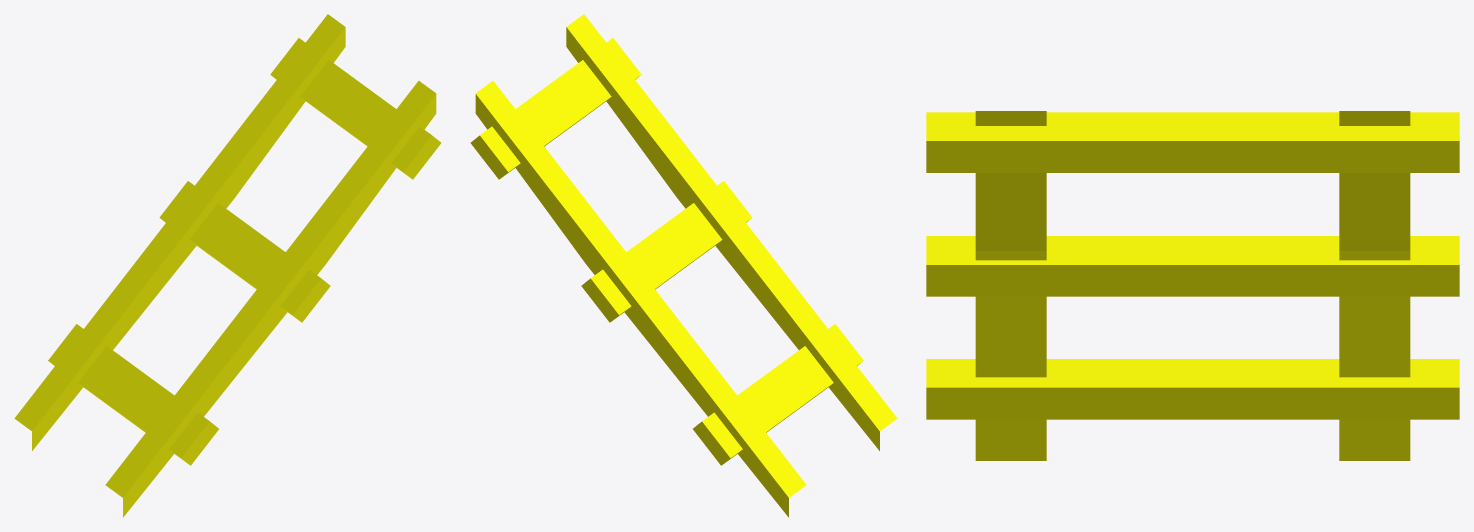
Rendered from Rail_Incline.glb.
The picture shows the model from 3 angles, left to right: view 1: azimuth 30°, elevation 25°; view 2: azimuth 150°, elevation 25°; view 3: azimuth 270°, elevation 25°; orthographic projection. The views are drawn at different scales.
Parts seen in each view (by area): view 1: Rail_Incline; view 2: Rail_Incline; view 3: Rail_Incline.
Boxes of the visible parts, x1=… form: Rail_Incline: x1=14, y1=14, x2=441, y2=517; Rail_Incline: x1=470, y1=14, x2=897, y2=517; Rail_Incline: x1=926, y1=111, x2=1459, y2=460.
Bounding box in the file's own units: 2 × 2.12 × 1.47.
Materials: 1 (1 with a texture image).
